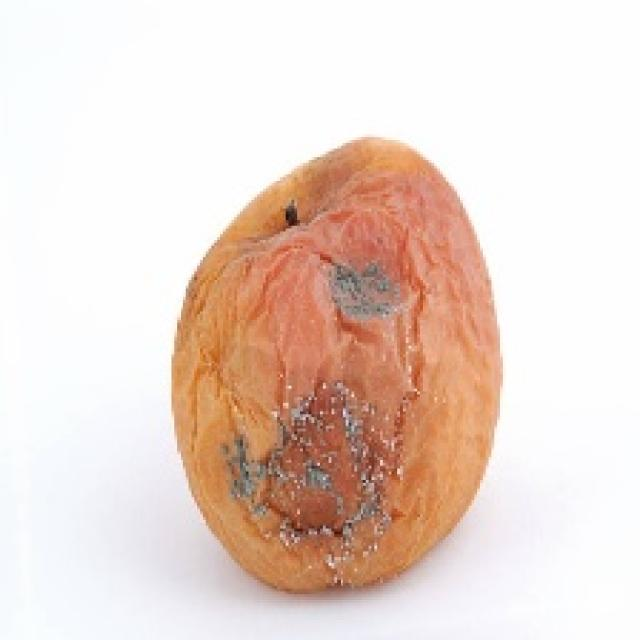rotten_apple: (178, 143, 499, 585)
